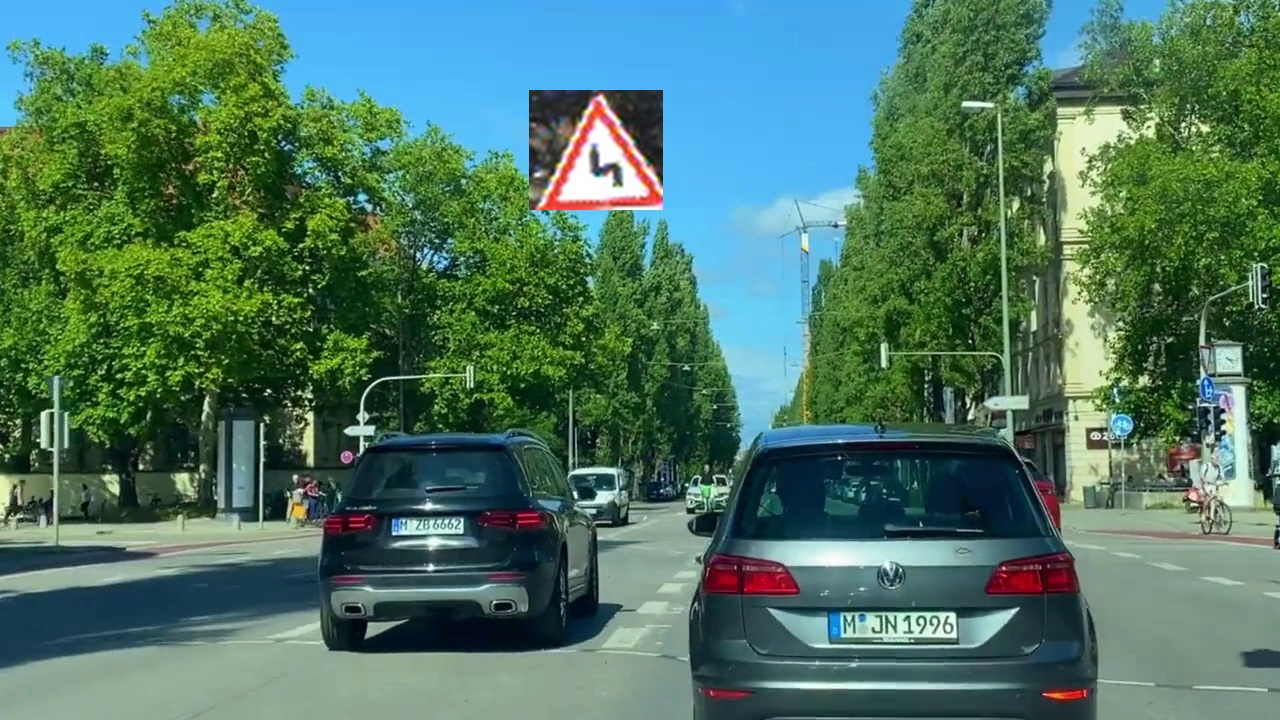Double curve: (529, 90, 663, 210)
